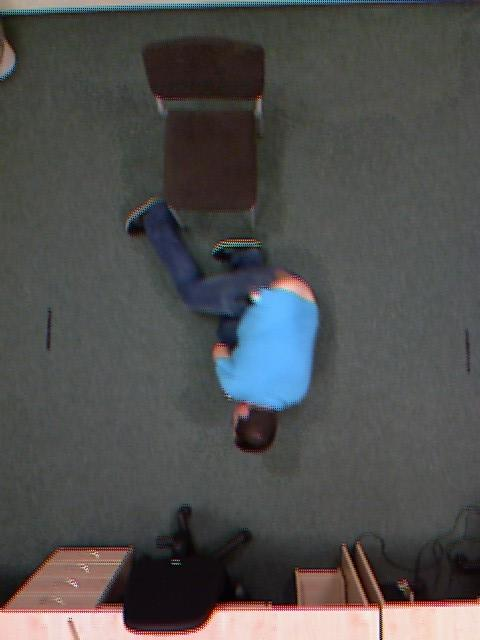fall: (124, 194, 328, 469)
